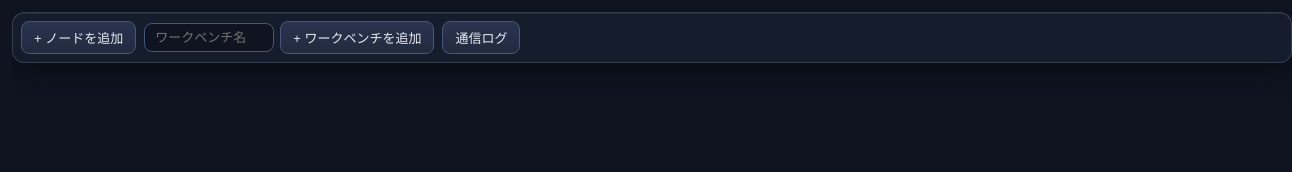
it: CanvasToolbar: comms log toggle (Issue #317) › opens the commsLog panel on click
The width and height of the screenshot is (1292, 172).
Click the button with test id "canvas-toolbar-comms-log".
click(482, 38)  # box [442,21,520,54]
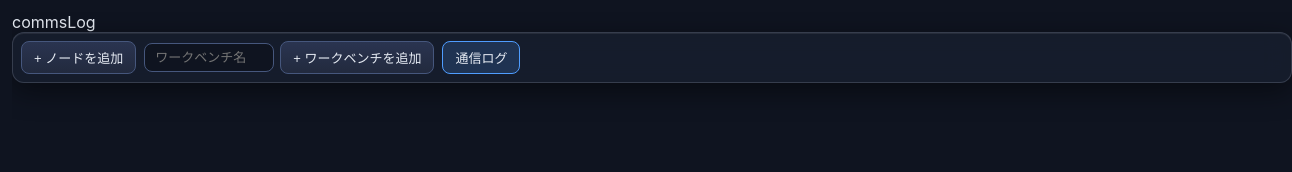
expect the text with test id "opened-kind" reads "commsLog": met, box [12,12,96,32]
